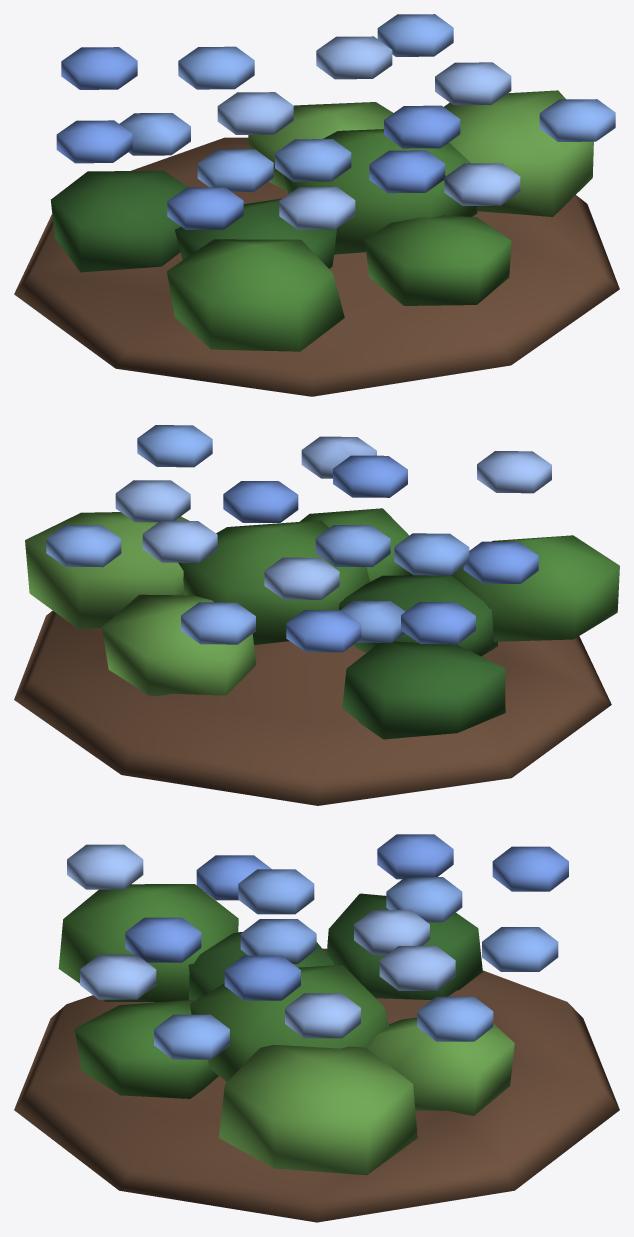
The model's file is forgetMeNots.far.glb.
3 views of the same model, one above another, from view 1: azimuth 30°, elevation 25°; view 2: azimuth 150°, elevation 25°; view 3: azimuth 270°, elevation 25° (orthographic). The views are drawn at different scales.
Visible parts, largest first — view 1: forgetMeNots; view 2: forgetMeNots; view 3: forgetMeNots.
Part boxes in pixels (<box>): forgetMeNots: <box>14,14,619,396</box>; forgetMeNots: <box>14,425,619,805</box>; forgetMeNots: <box>14,834,619,1222</box>.
Size of the model in its own units: 0.866 by 0.28 by 0.84.
